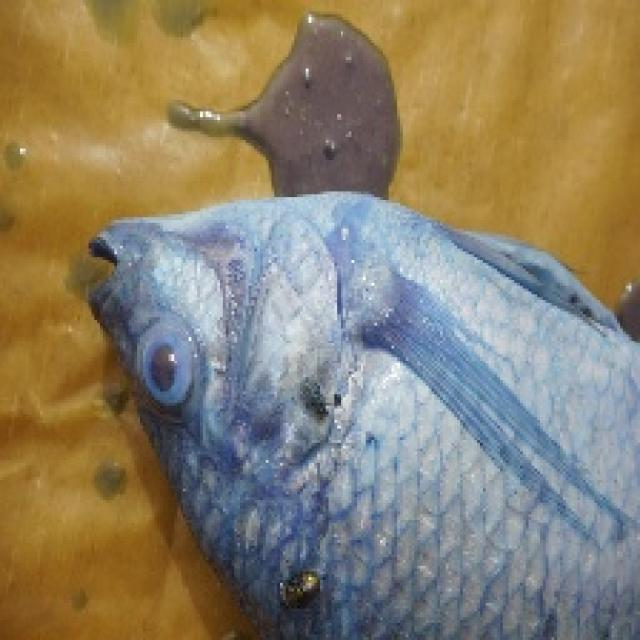Non-Fresh: (77, 188, 640, 640), (126, 312, 240, 430)
